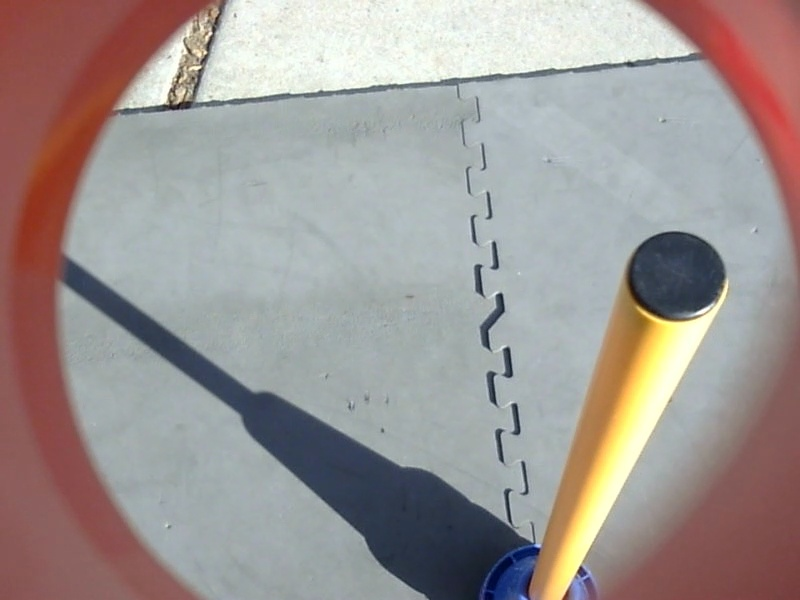tip: (616, 225, 737, 330)
